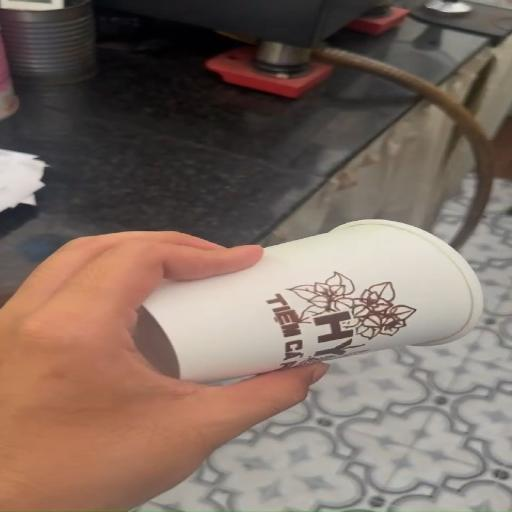Ly_giay: (138, 219, 482, 383)
